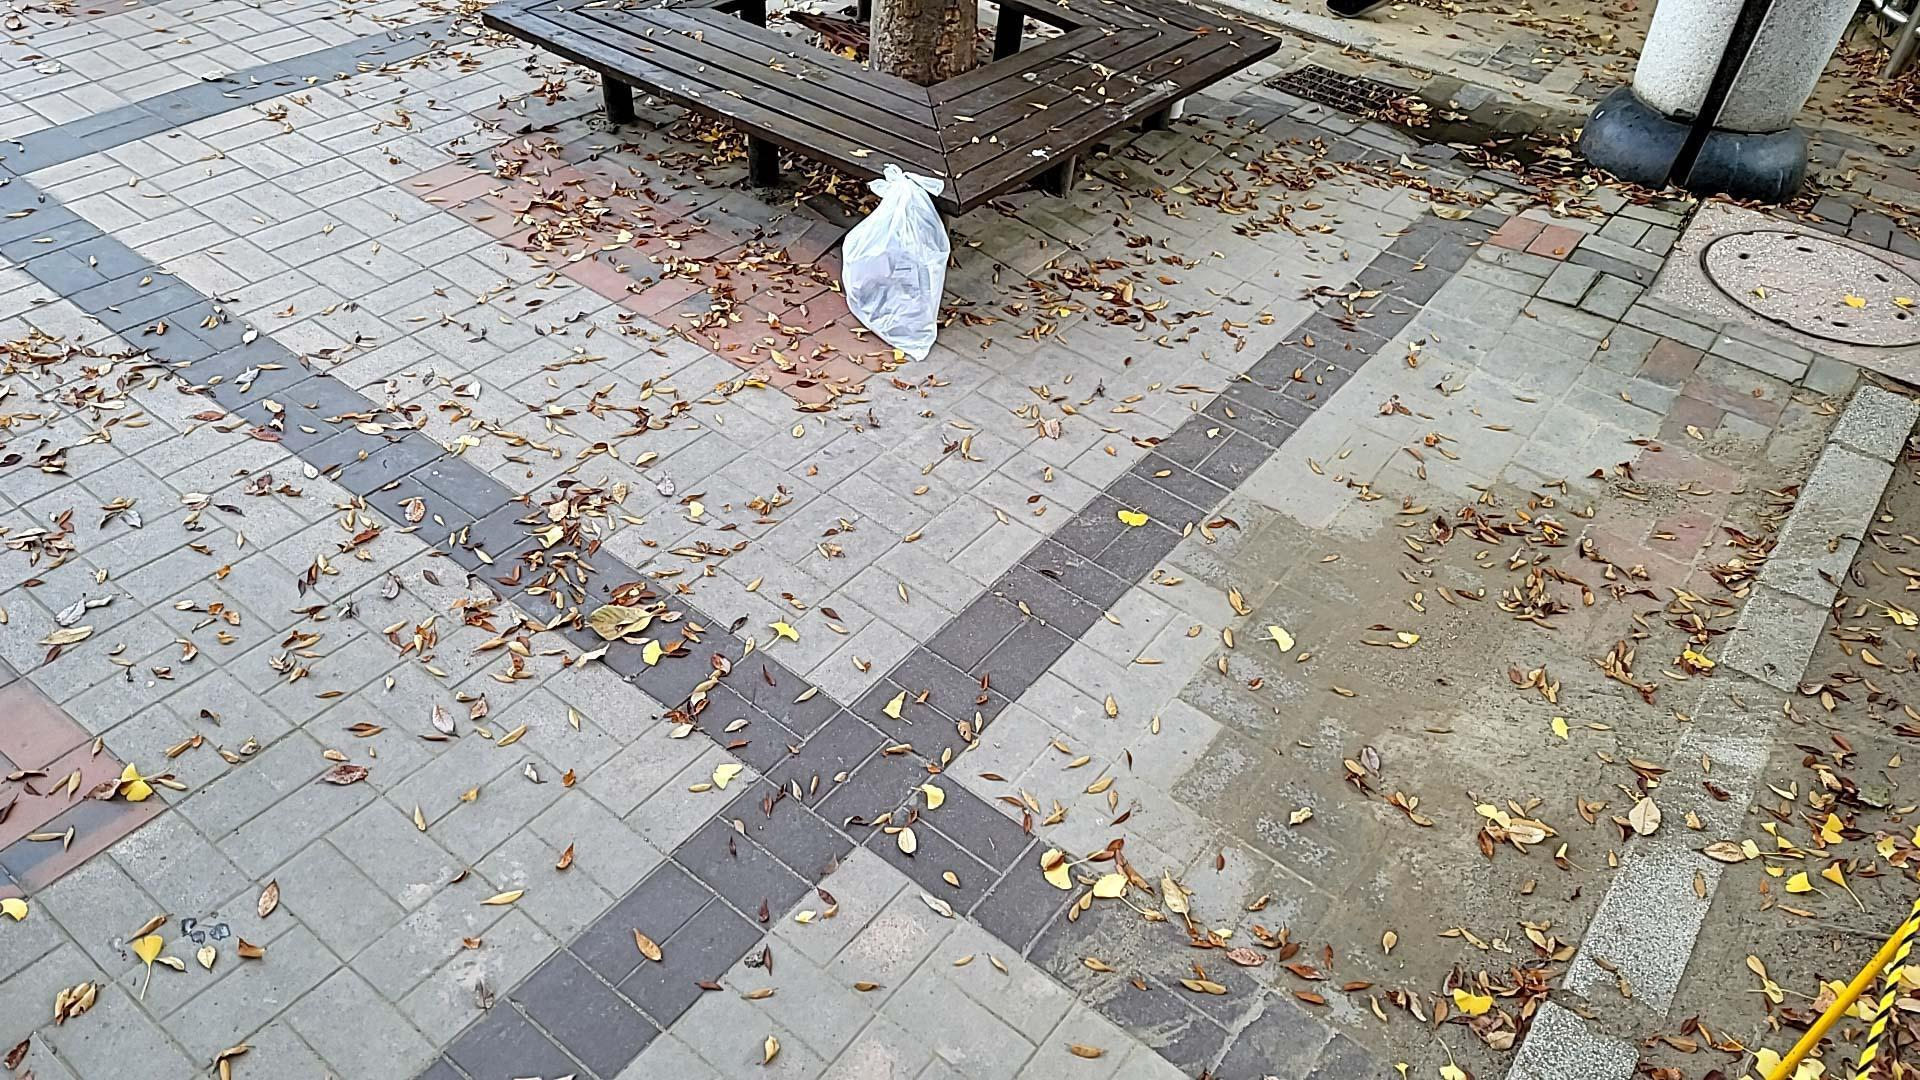white_bag: (824, 156, 967, 371)
